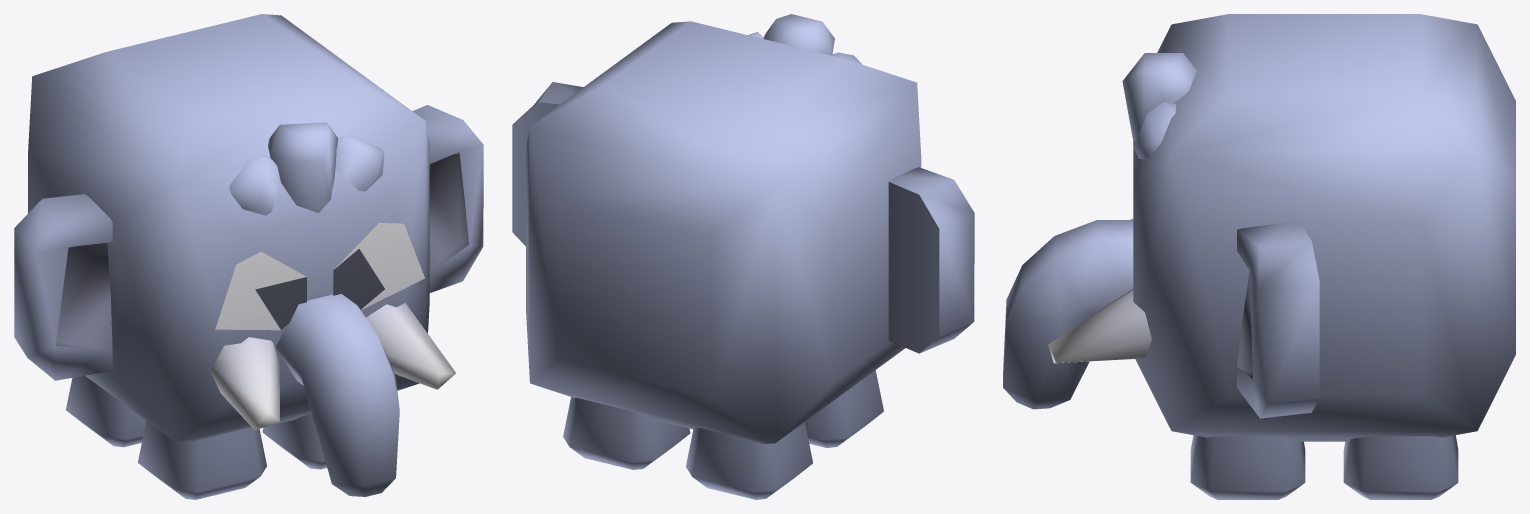
File: cc0-elephant-lod1.glb
3 renders of one model, left to right at view 1: azimuth 30°, elevation 25°; view 2: azimuth 150°, elevation 25°; view 3: azimuth 270°, elevation 25°, orthographic. The views are drawn at different scales.
Parts seen in each view (by area): view 1: part_1, part_2, part_6, part_5, part_4; view 2: part_1, part_5, part_3, part_6; view 3: part_1, part_2, part_4, part_3.
Boxes of the visible parts, box(x1,y1,x2,y2) form: part_1: box(14, 14, 483, 443); part_2: box(276, 294, 399, 496); part_6: box(138, 421, 266, 499); part_5: box(66, 375, 146, 447); part_4: box(262, 413, 327, 469); part_1: box(512, 14, 974, 444); part_5: box(686, 422, 812, 499); part_3: box(563, 397, 690, 469); part_6: box(805, 370, 883, 447); part_1: box(1048, 14, 1515, 441); part_2: box(1003, 220, 1133, 409); part_4: box(1190, 435, 1305, 499); part_3: box(1343, 435, 1458, 499).
Bounding box in the file's own units: 1.83 × 1.43 × 1.68.
Materials: 1 (1 with a texture image).
